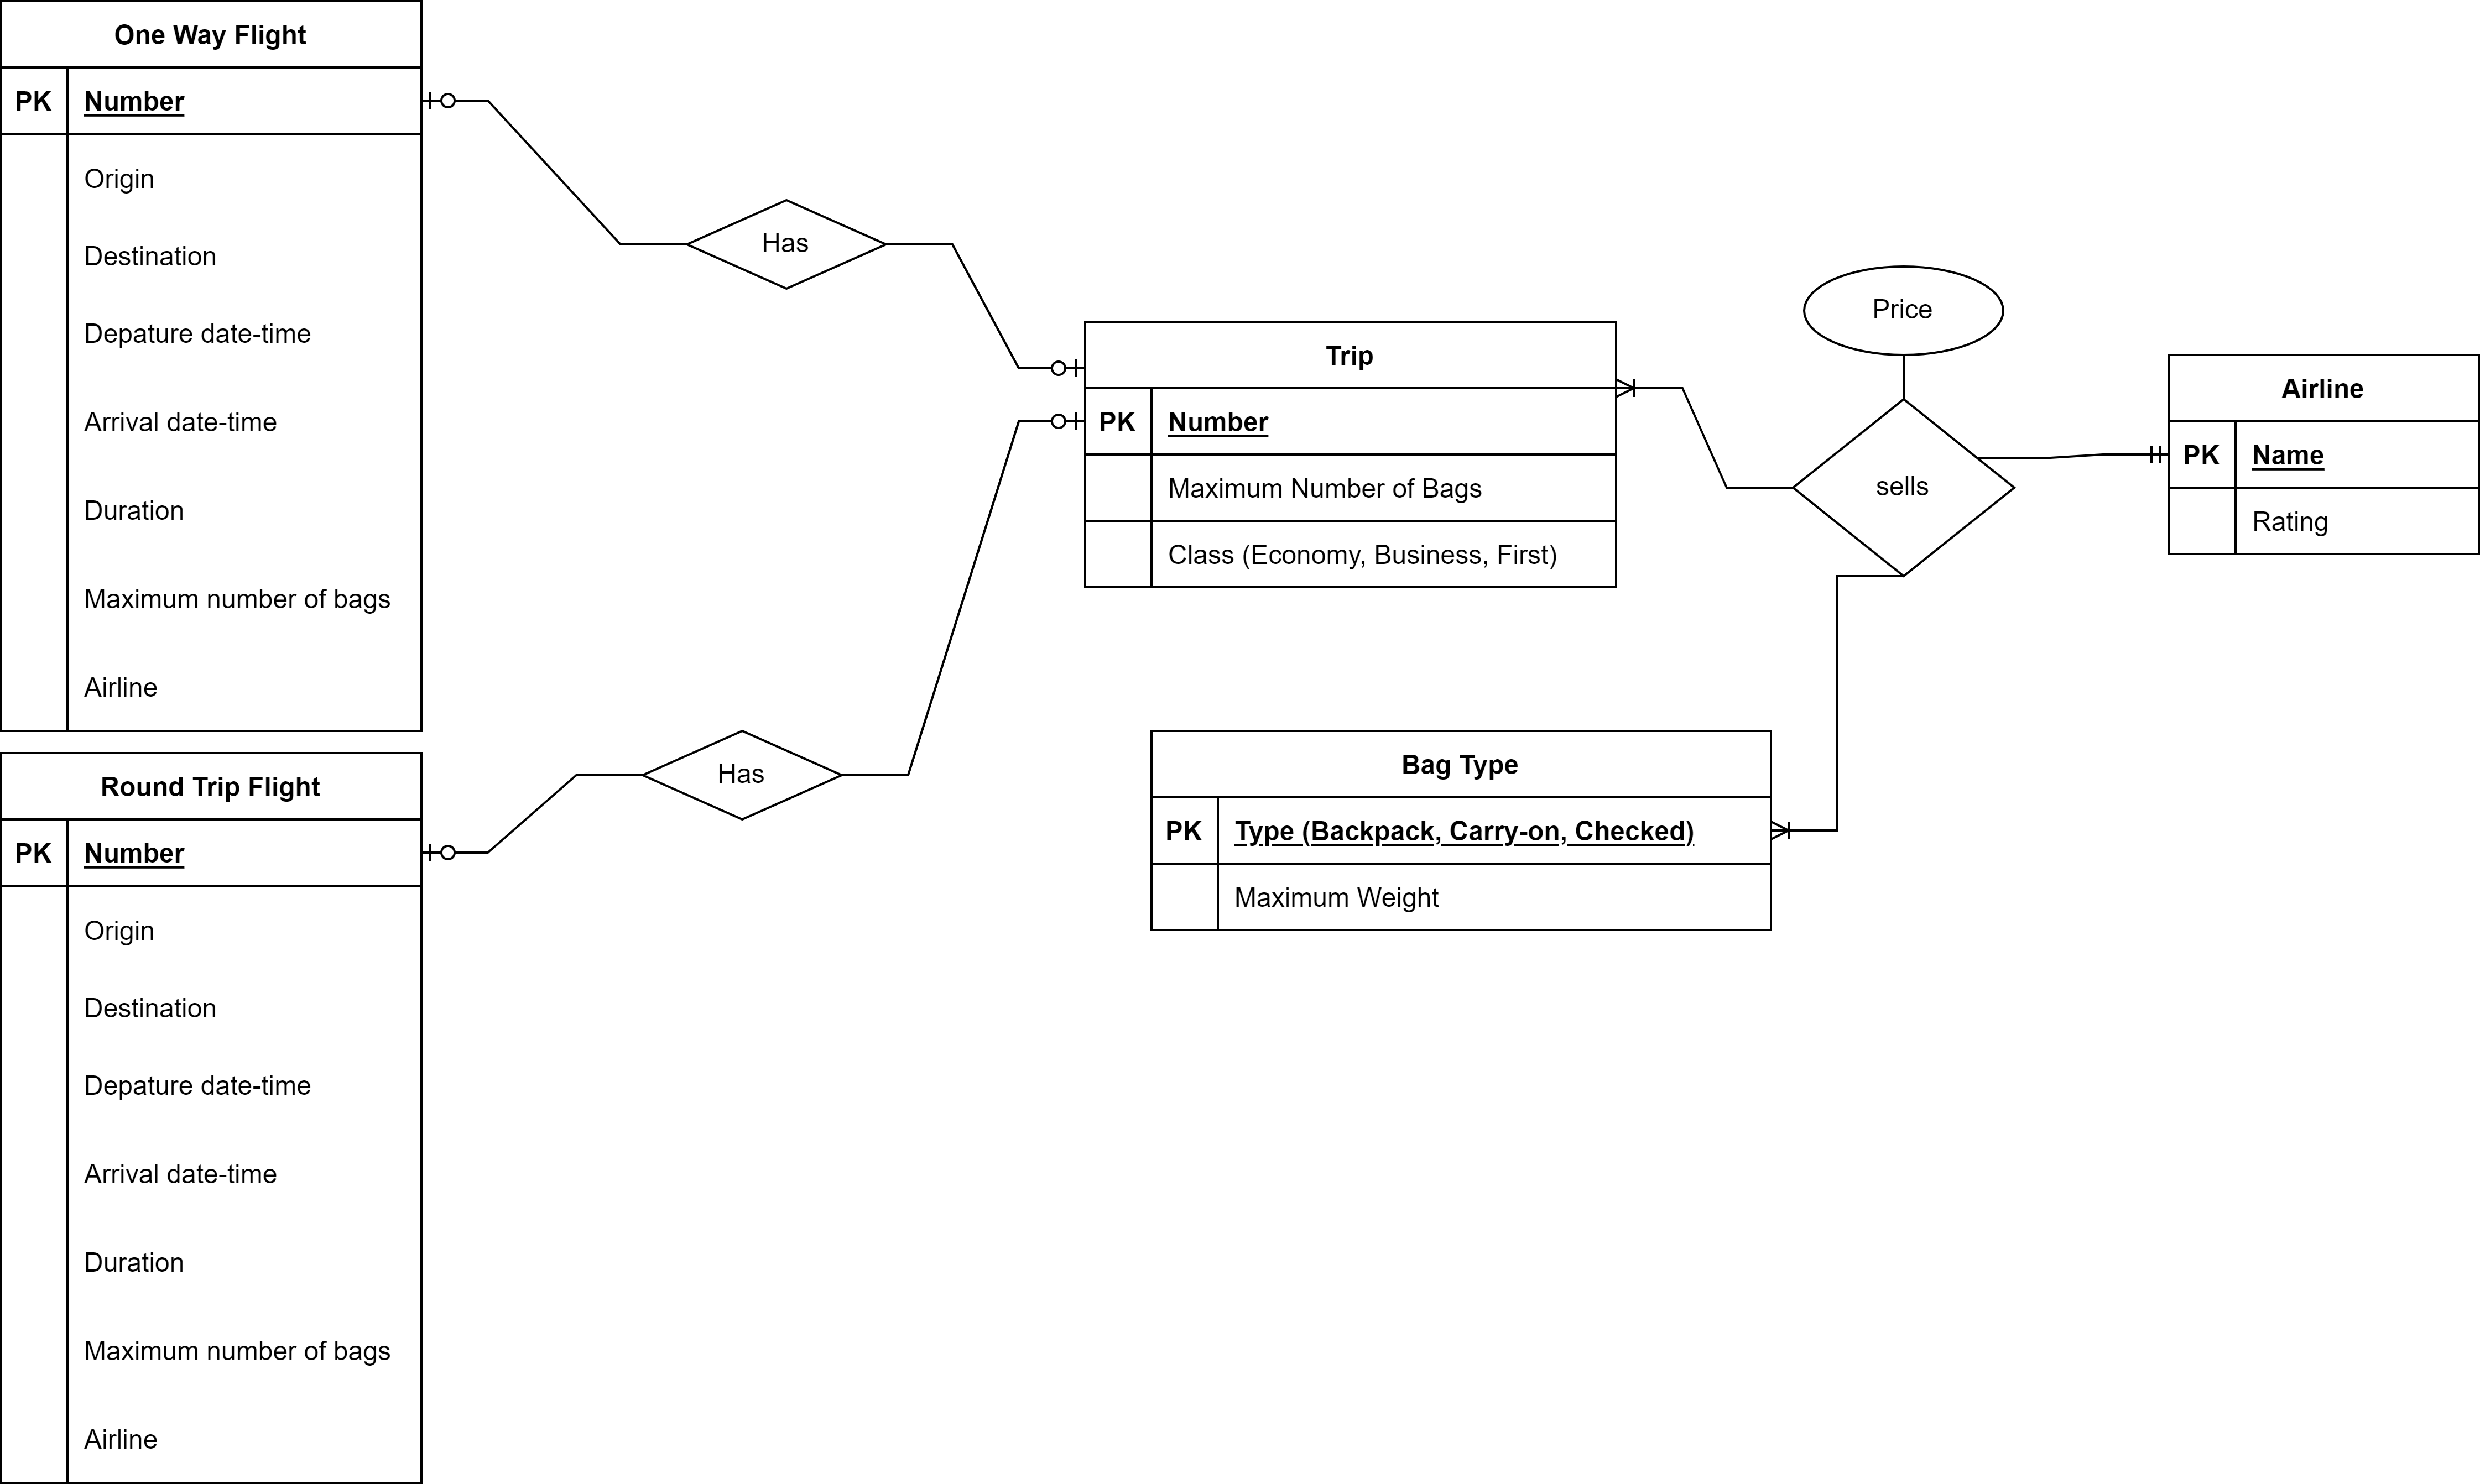entity: (4, 0, 422, 730), (5, 751, 420, 1480), (1085, 322, 1618, 590), (1150, 733, 1770, 931), (2169, 352, 2480, 553)
many: (1614, 366, 1669, 412), (1768, 802, 1812, 859)
one: (424, 829, 489, 869), (1037, 341, 1088, 390), (424, 80, 484, 118), (2125, 433, 2171, 481), (1044, 401, 1086, 442)
rel: (1793, 401, 2014, 578), (641, 733, 841, 825), (691, 198, 887, 288)
rel_attr: (1805, 267, 2005, 352)
